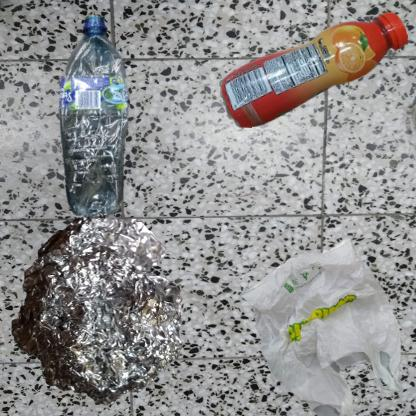aluminio: (10, 213, 183, 406)
bolsa: (213, 213, 416, 416)
botella: (10, 10, 224, 281), (213, 10, 416, 138)
